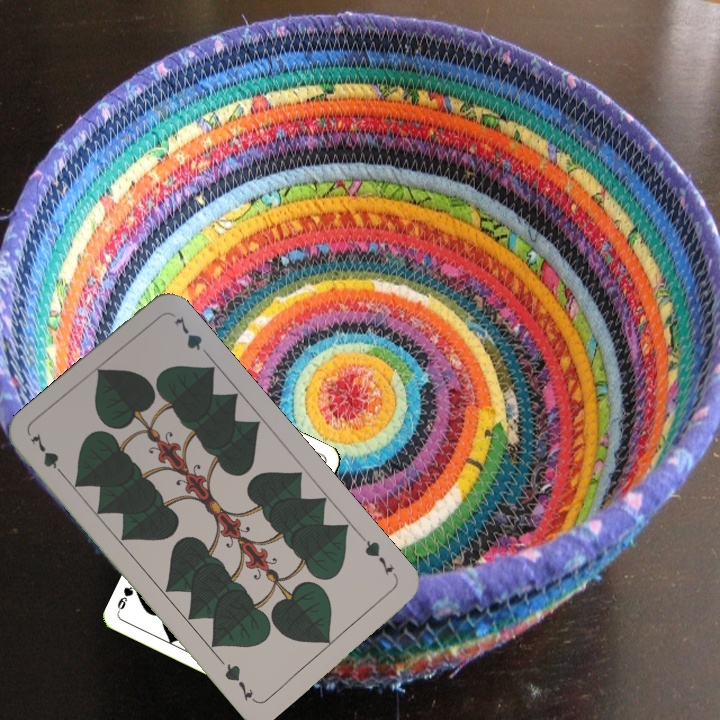G7: (26, 429, 70, 482), (358, 532, 400, 581)
